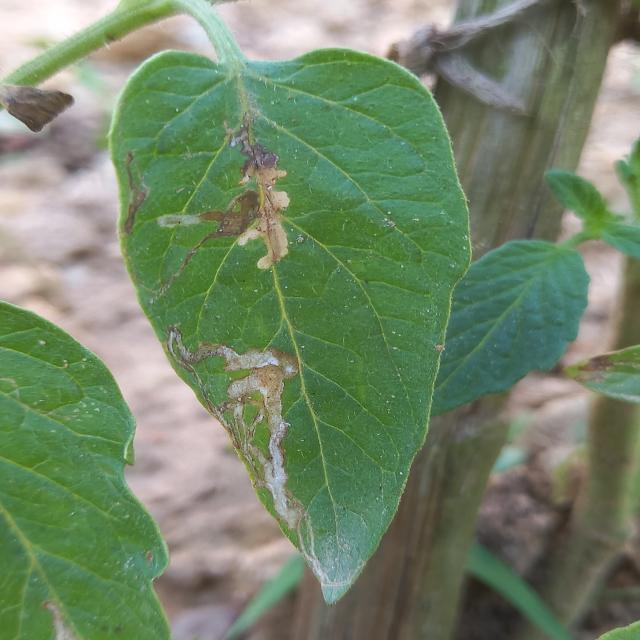Tuta absoluta: (159, 279, 374, 536), (140, 124, 332, 319), (124, 152, 148, 234)
